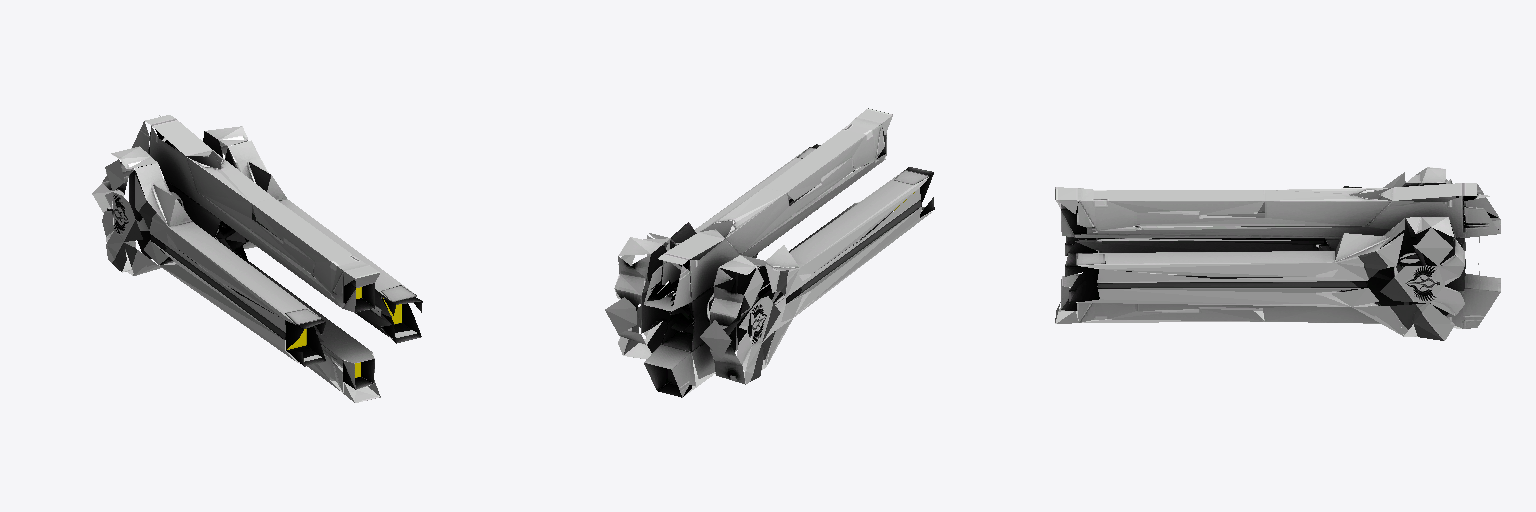
3 renders of one model, left to right at view 1: azimuth 30°, elevation 25°; view 2: azimuth 150°, elevation 25°; view 3: azimuth 270°, elevation 25°, orthographic.
Visible parts, largest first — view 1: jorodoxShape-000; view 2: jorodoxShape-000; view 3: jorodoxShape-000.
Part boxes in pixels (x1,y1,x2,y2): jorodoxShape-000: (92,115,422,402); jorodoxShape-000: (605,108,934,397); jorodoxShape-000: (1055,167,1500,340).
Bounding box in the file's own units: 0 × 0 × 0.
1 materials, 1 textured.